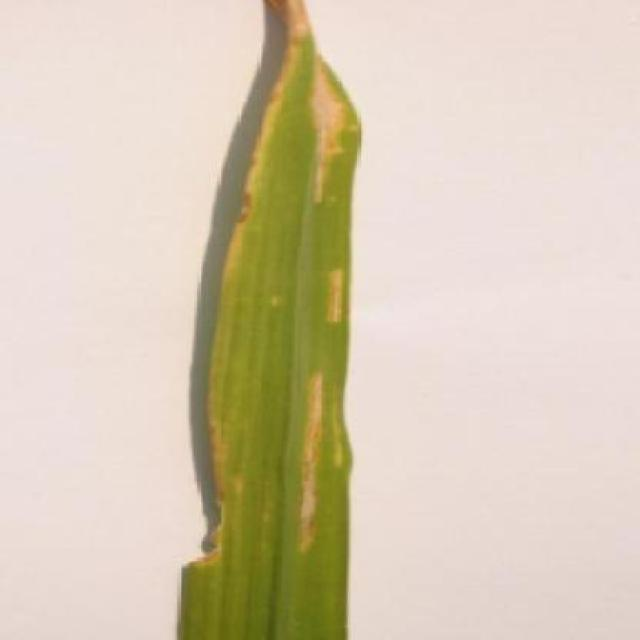Brown_Spot: (171, 0, 366, 640)
